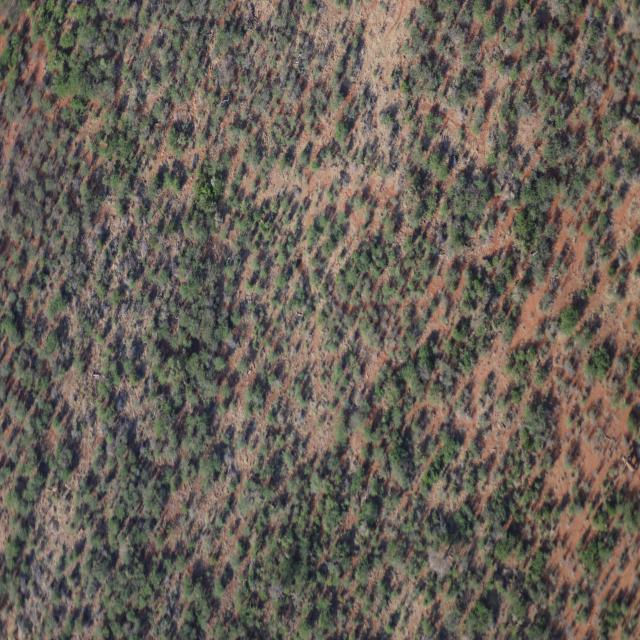elephant: (622, 455, 637, 472)
